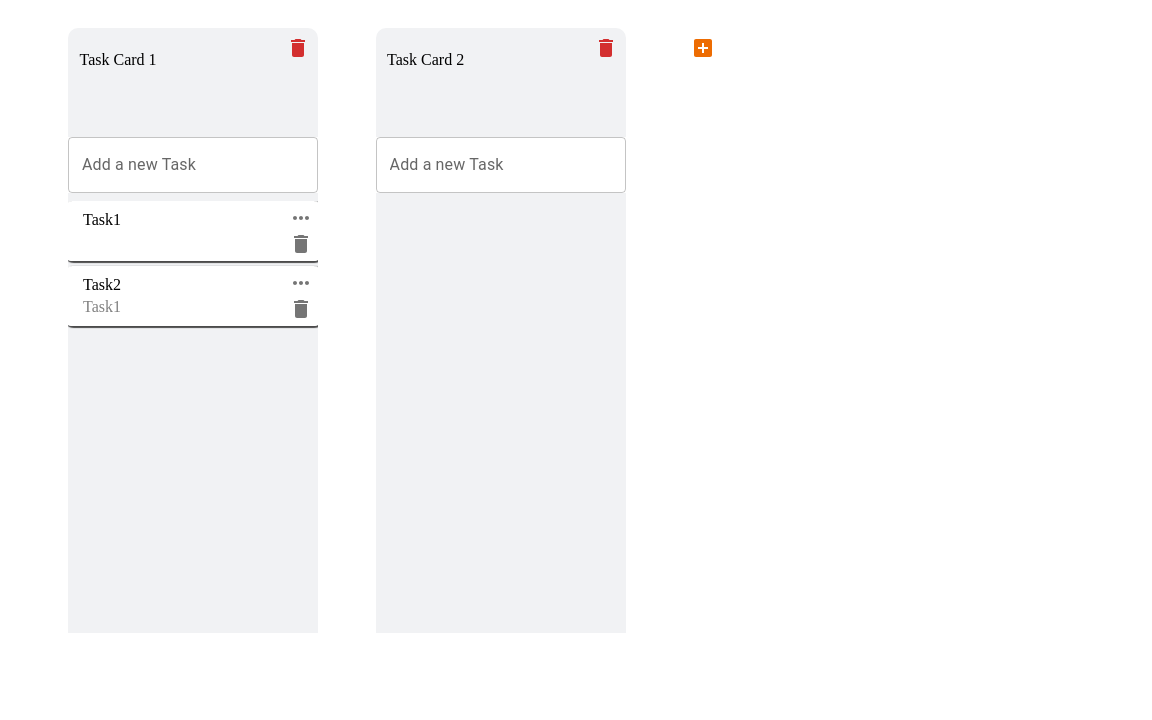
Body › click drawer button
Click the 1st button named "openDrawer" at (301, 218), box [284, 201, 318, 235]
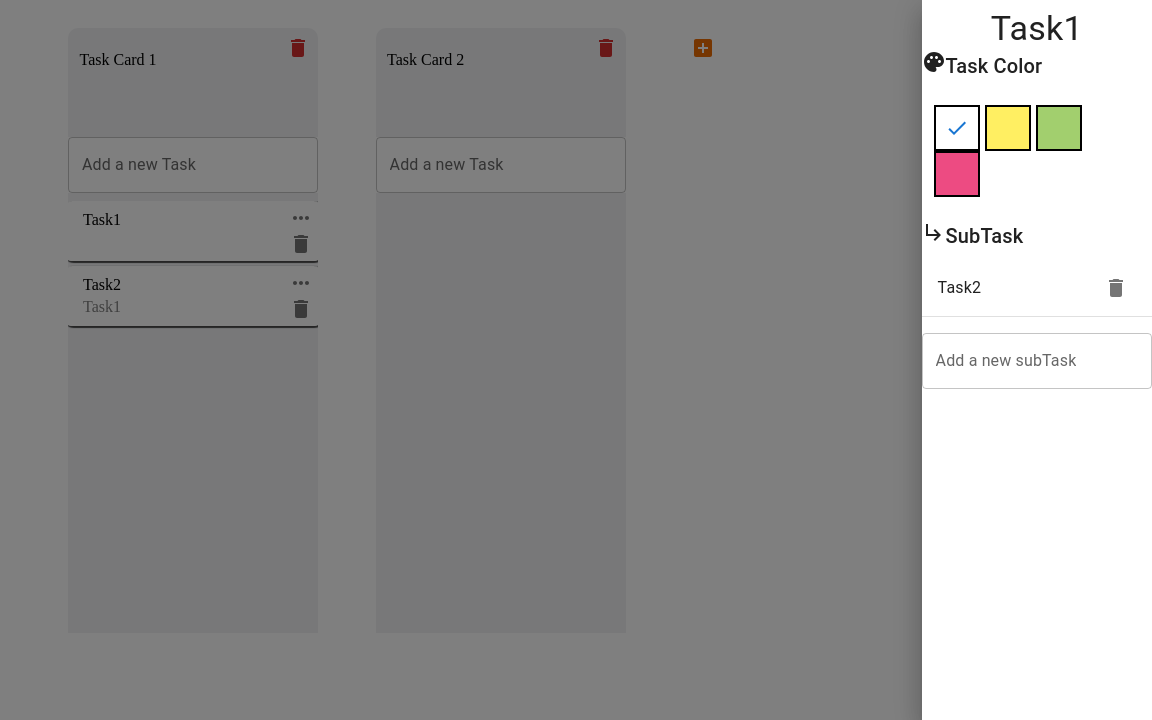
Expected: the heading "SubTask" is shown, [946, 220, 1023, 252]
